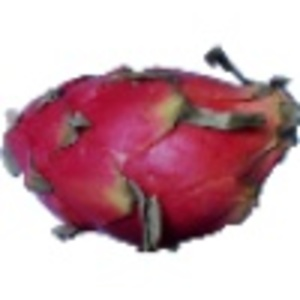pitaia: (1, 47, 300, 256)
